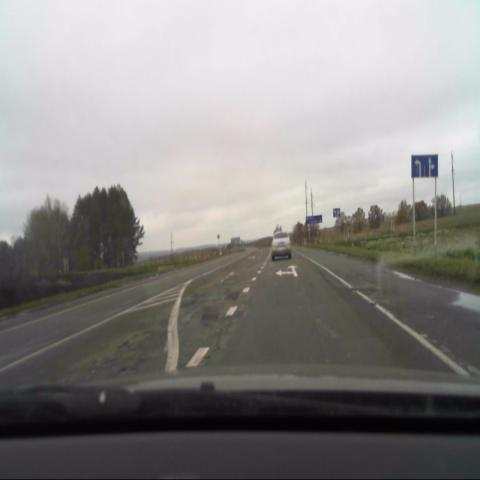5_15_2_2: (411, 155, 439, 178), (333, 206, 341, 218)
